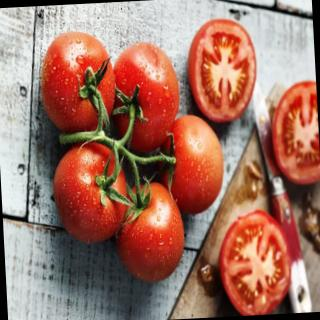Tomat: (51, 139, 131, 247), (39, 29, 119, 136), (110, 39, 183, 155), (113, 178, 188, 285), (156, 113, 227, 217)
